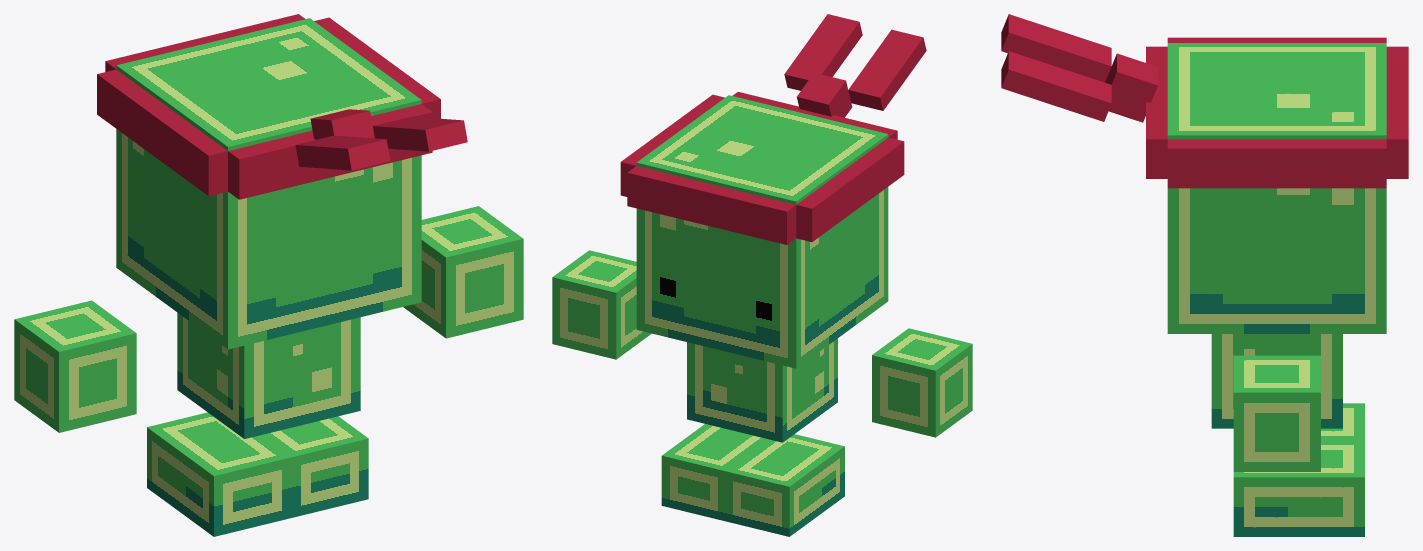
File: SlimeMan_Green.gltf
The picture shows the model from 3 angles, left to right: view 1: azimuth 30°, elevation 25°; view 2: azimuth 150°, elevation 25°; view 3: azimuth 270°, elevation 25°; orthographic projection. The views are drawn at different scales.
Parts seen in each view (by area): view 1: cube (×13); view 2: cube (×13); view 3: cube (×12).
Part boxes in pixels (x1,y1,x2,y2): cube (×13): (14,14,523,536); cube (×13): (552,14,972,536); cube (×12): (1001,14,1408,536).
Bounding box in the file's own units: 1.5 × 1.44 × 1.16.
1 material, 1 textured.
